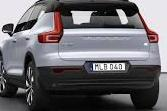SUV: (1, 1, 161, 111)
